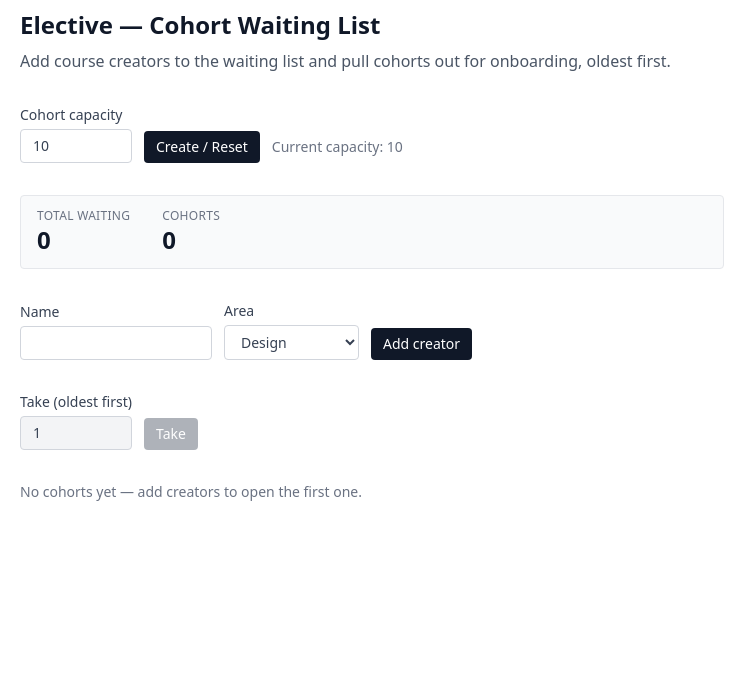
accessibility (WCAG 2.2 AA) › has no violations with creators and an expanded cohort
Type "Ada" into the field with test id "name-input".
click(116, 343); type("Ada")  # box [20, 326, 212, 360]
Select "Design" in the dropdown with test id "area-select" at coordinates (292, 343), box [224, 325, 359, 360]
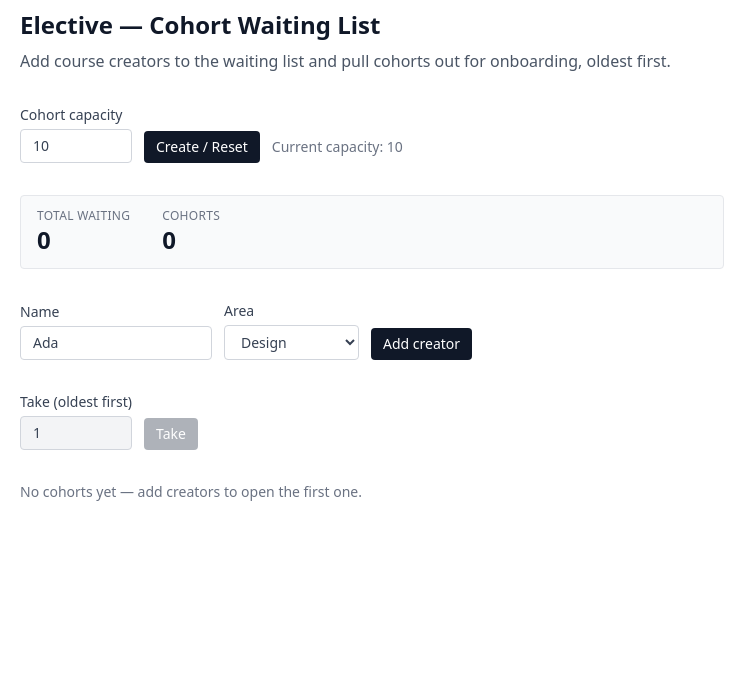
Click the button with test id "add-btn".
click(422, 344)  # box [371, 328, 472, 360]
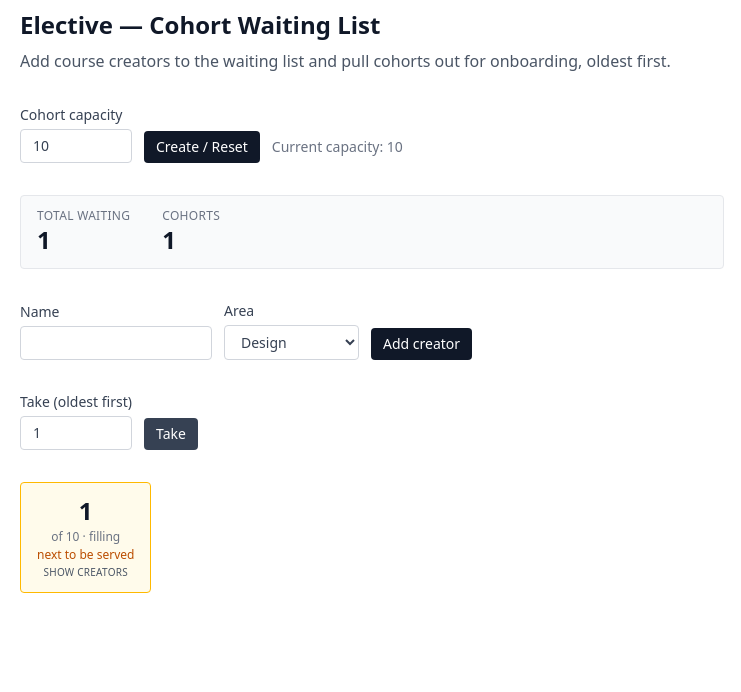
Type "Grace" into the field with test id "name-input".
click(116, 343); type("Grace")  # box [20, 326, 212, 360]
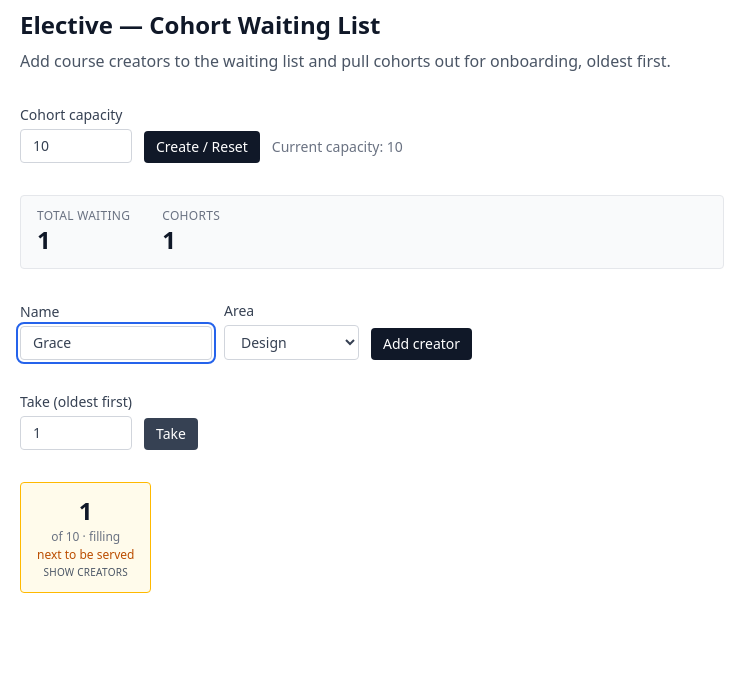
Select "Development" in the dropdown with test id "area-select" at coordinates (292, 343), box [224, 325, 359, 360]
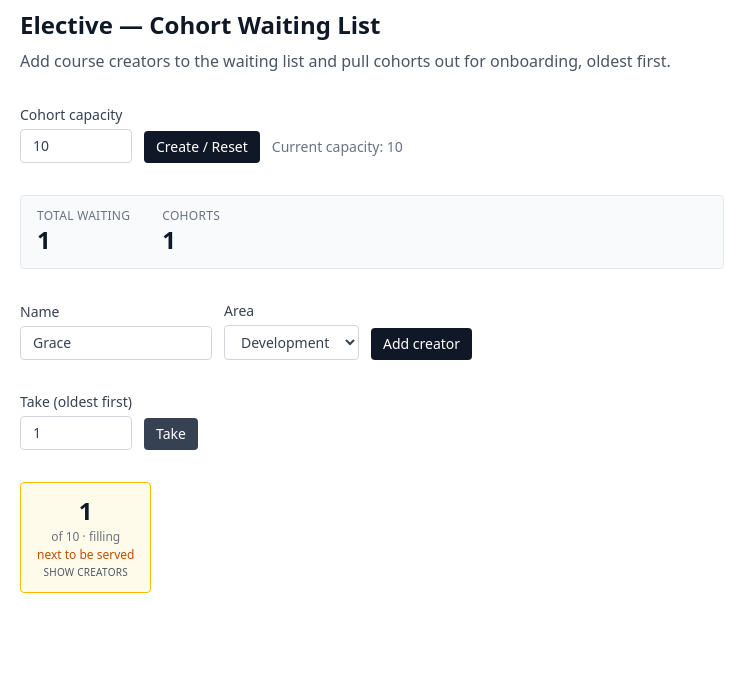
Click the button with test id "add-btn".
click(422, 344)  # box [371, 328, 472, 360]
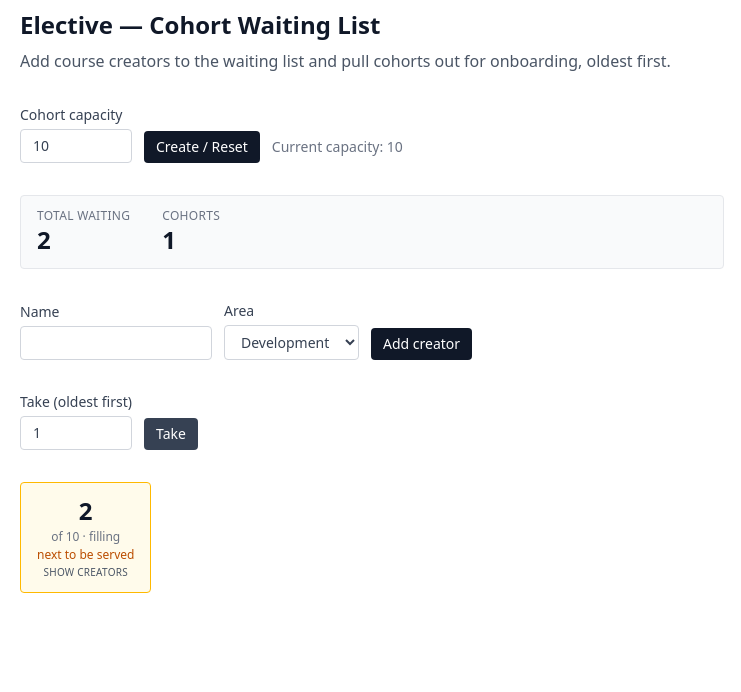
Click the button with test id "cohort-row".
click(86, 538)  # box [20, 482, 152, 593]
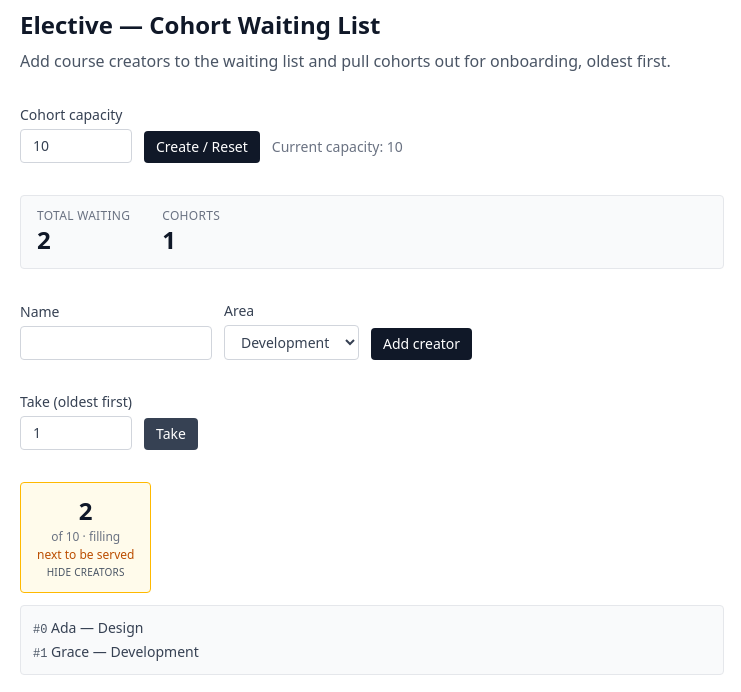
Check: the button with test id "cohort-row" is expanded, box [20, 482, 152, 593]
